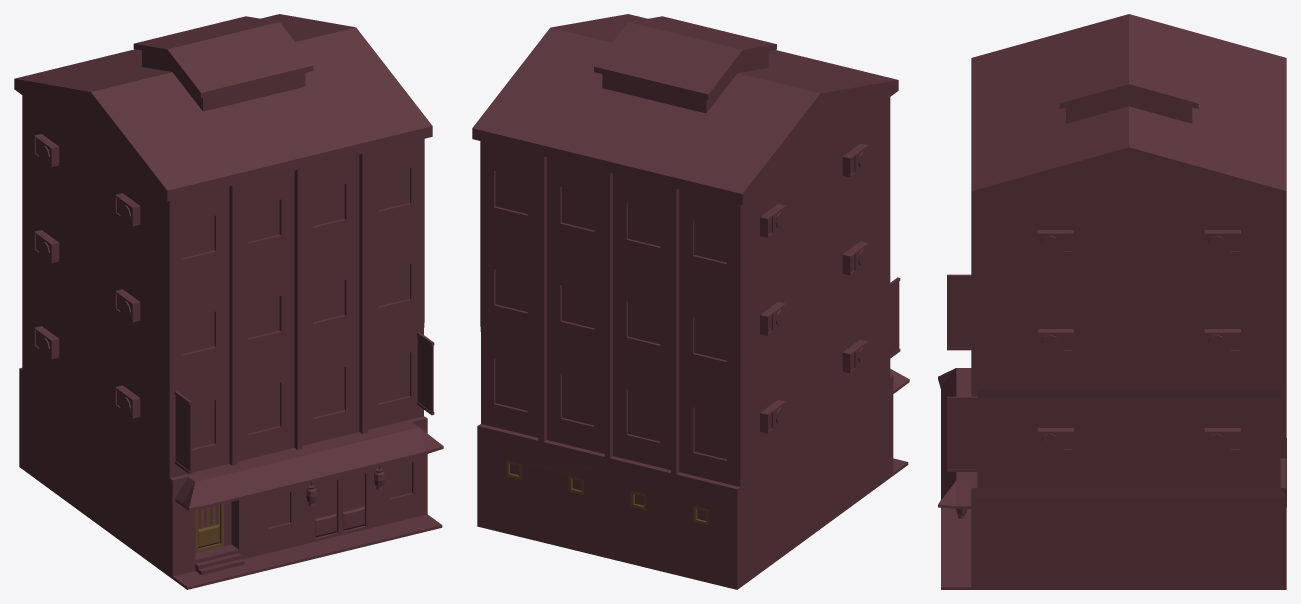
The model's file is building-apartment-china.fbx.
3 views of the same model, side by side, from view 1: azimuth 30°, elevation 25°; view 2: azimuth 150°, elevation 25°; view 3: azimuth 270°, elevation 25° (orthographic). The views are drawn at different scales.
Parts seen in each view (by area): view 1: building-apartment-china; view 2: building-apartment-china; view 3: building-apartment-china.
Boxes of the visible parts, x1,y1,x2,y2 form: building-apartment-china: (14,14,443,589); building-apartment-china: (472,14,909,589); building-apartment-china: (938,14,1286,589).
Bounding box in the file's own units: 10.7 × 17.1 × 11.5.
